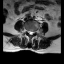CCS_normal: (30, 28, 32, 37)
LFS_normal: (34, 28, 36, 35)
LLS_normal: (32, 29, 34, 36)
RFS_normal: (26, 28, 28, 34)
RLS_normal: (28, 28, 30, 36)
